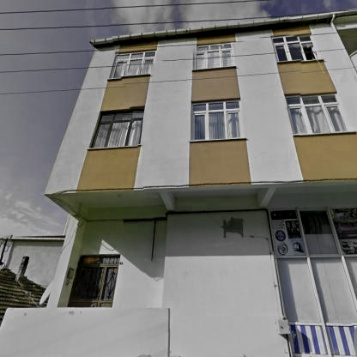door: (68, 266, 116, 307)
